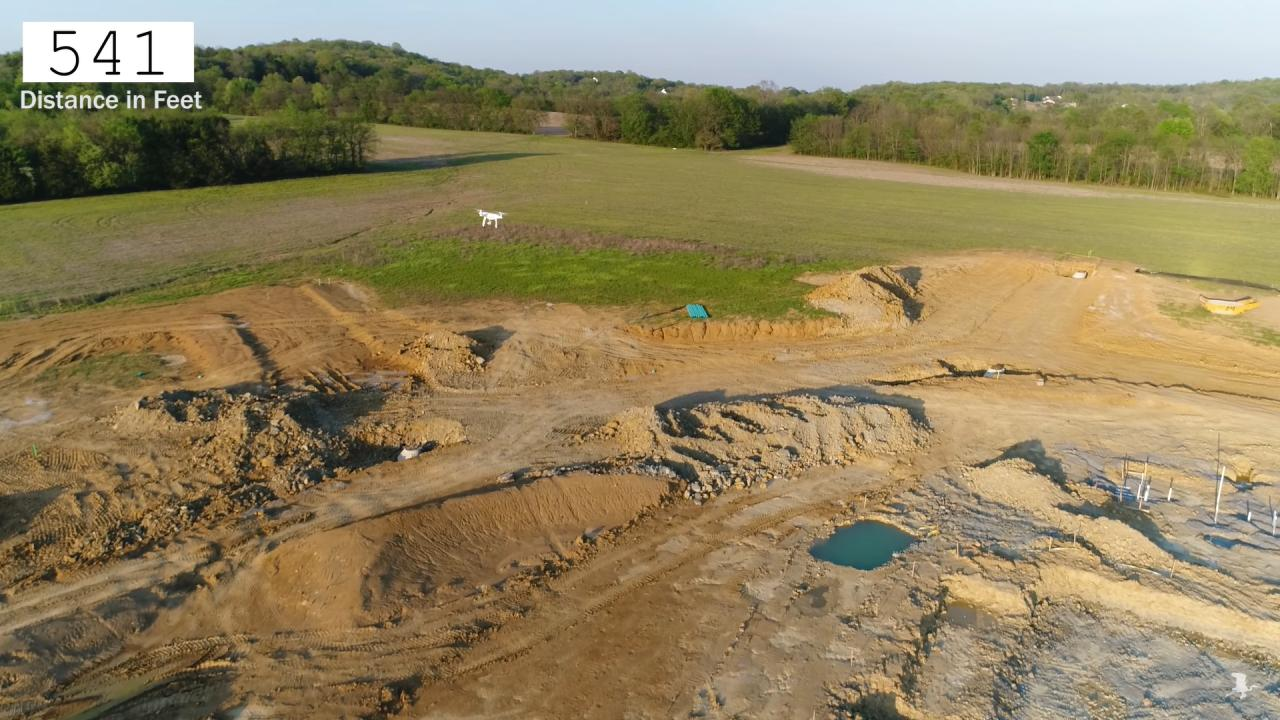Drone: (469, 201, 514, 235)
